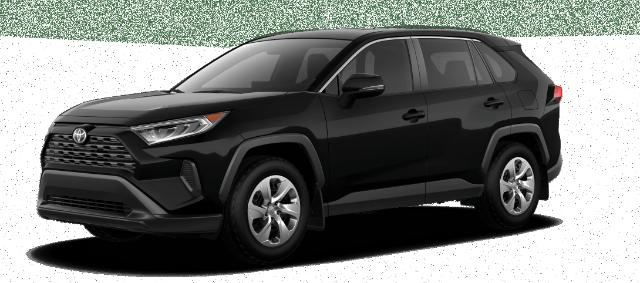toyota: (38, 28, 562, 264)
